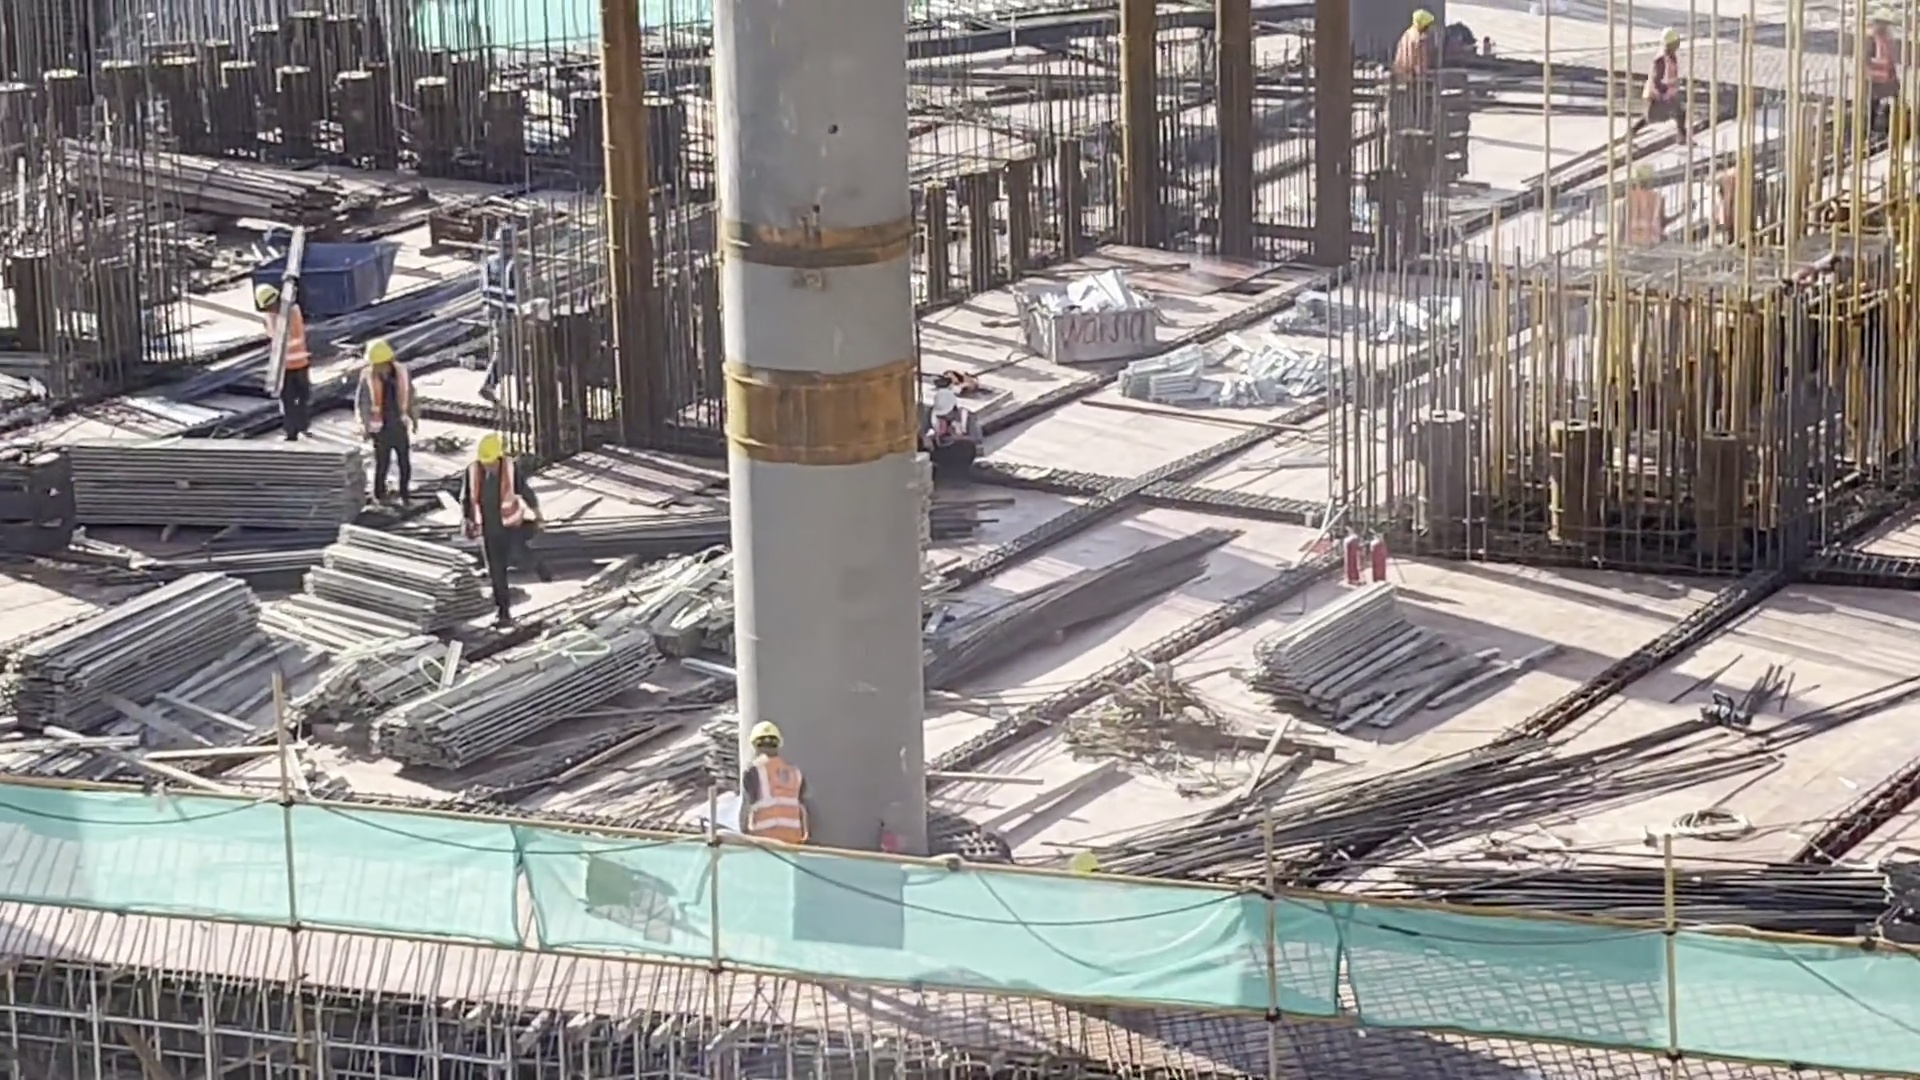helmet: (925, 379, 962, 416), (241, 287, 285, 311), (366, 334, 392, 367), (492, 226, 518, 256), (745, 730, 780, 750), (471, 439, 499, 464), (1656, 28, 1684, 49), (1873, 5, 1900, 27), (1412, 8, 1433, 27)
person: (451, 423, 541, 613), (230, 265, 326, 432), (477, 215, 538, 423), (344, 334, 417, 494), (725, 716, 811, 850), (1845, 8, 1917, 132), (1632, 28, 1700, 148), (917, 368, 981, 480), (1393, 1, 1443, 124)
vest: (747, 765, 804, 845), (260, 304, 317, 379), (467, 461, 525, 527), (362, 368, 411, 443), (1644, 49, 1686, 106), (1388, 37, 1437, 82), (1863, 35, 1901, 90), (484, 267, 525, 315)
